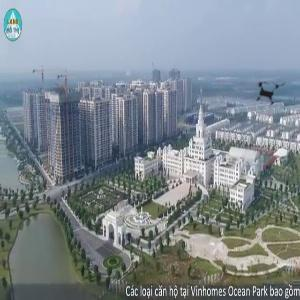drone: (238, 65, 300, 127)
